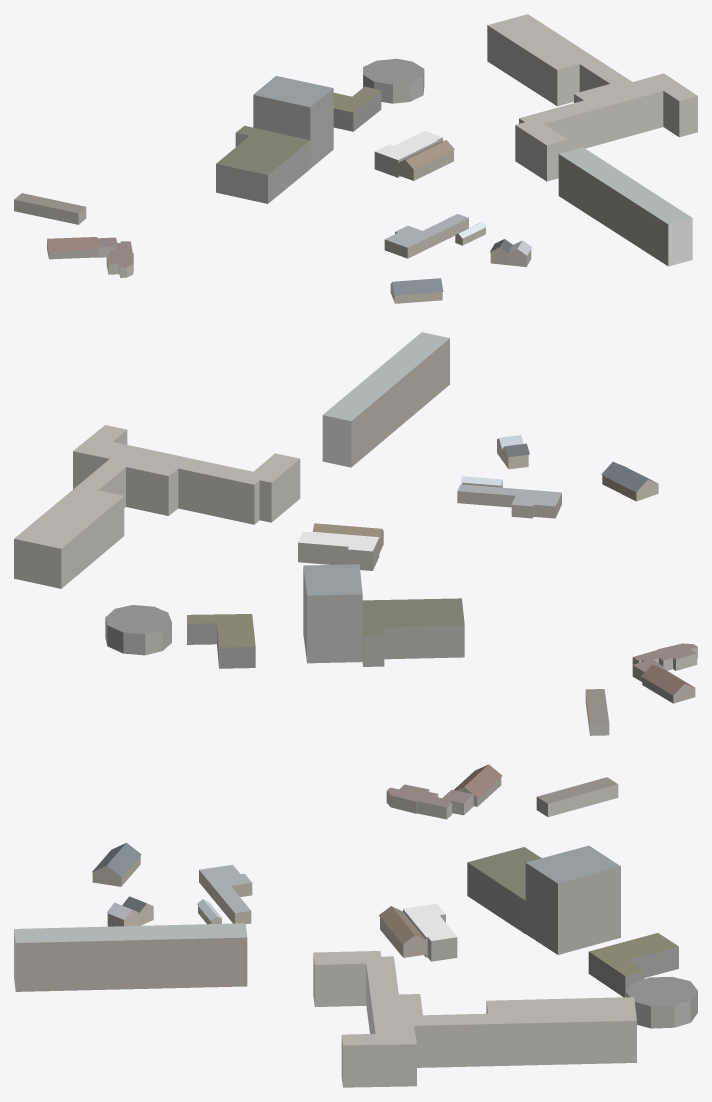
3 views of the same model, one above another, from view 1: azimuth 30°, elevation 25°; view 2: azimuth 150°, elevation 25°; view 3: azimuth 270°, elevation 25° (orthographic). The views are drawn at different scales.
Visible parts, largest first — view 1: tuile; view 2: tuile; view 3: tuile.
Part boxes in pixels (x1=…): tuile: x1=14, y1=14, x2=697, y2=303; tuile: x1=14, y1=332, x2=697, y2=735; tuile: x1=14, y1=764, x2=697, y2=1087.
Bounding box in the file's own units: 277 × 34.6 × 238.
